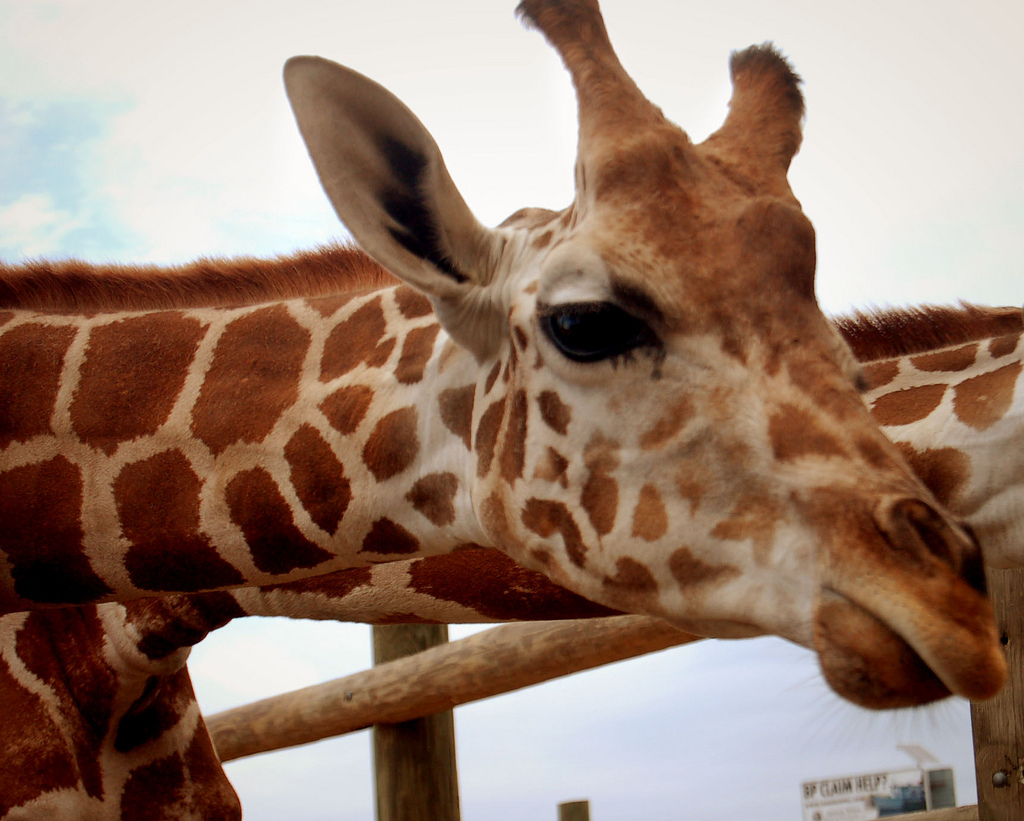giraffe: (29, 63, 954, 698)
